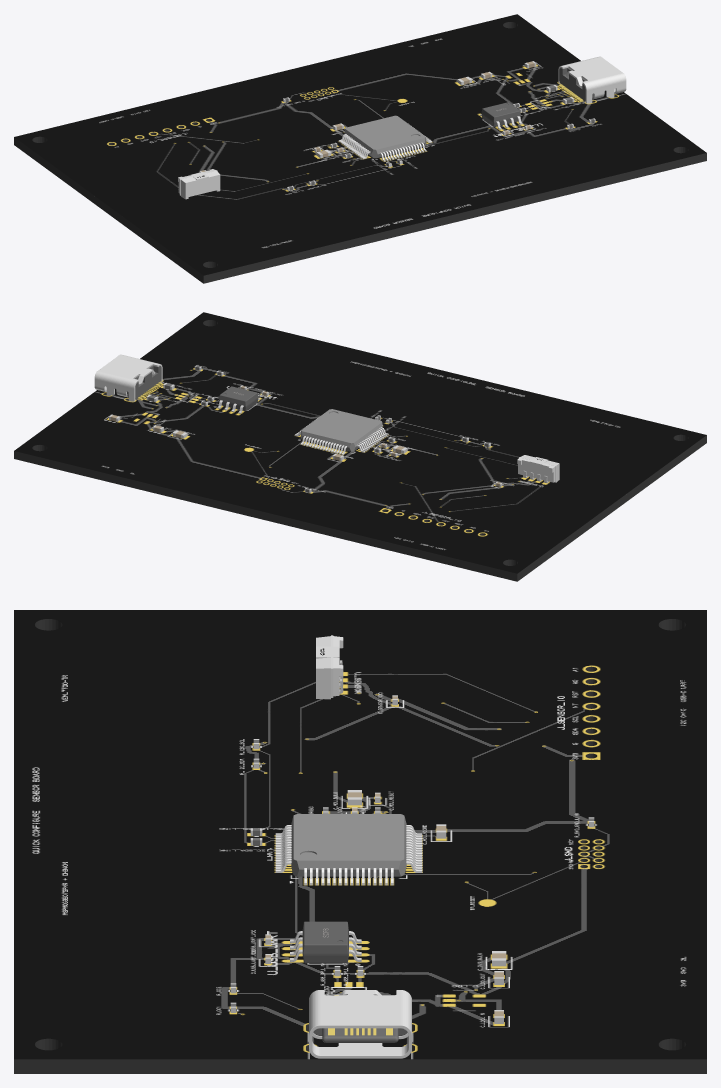
The picture shows the model from 3 angles, top to bottom: view 1: azimuth 30°, elevation 25°; view 2: azimuth 150°, elevation 25°; view 3: azimuth 270°, elevation 25°; orthographic projection. The views are drawn at different scales.
Visible parts, largest first — view 1: Box0, U_MAIN, J_USB, U_SENSOR, U_USB_UART; view 2: Box0, U_MAIN, J_USB, U_SENSOR, U_USB_UART; view 3: Box0, U_MAIN, J_USB, U_USB_UART, U_SENSOR.
Boxes of the visible parts, bbox=[...] form: Box0: bbox=[14, 14, 706, 283]; U_MAIN: bbox=[338, 115, 432, 161]; J_USB: bbox=[558, 56, 626, 103]; U_SENSOR: bbox=[178, 169, 220, 199]; U_USB_UART: bbox=[480, 102, 522, 129]; Box0: bbox=[14, 312, 706, 581]; U_MAIN: bbox=[294, 409, 388, 454]; J_USB: bbox=[94, 354, 162, 401]; U_SENSOR: bbox=[517, 455, 559, 483]; U_USB_UART: bbox=[217, 386, 259, 413]; Box0: bbox=[14, 610, 706, 1073]; U_MAIN: bbox=[275, 814, 422, 885]; J_USB: bbox=[309, 990, 411, 1058]; U_USB_UART: bbox=[290, 921, 361, 963]; U_SENSOR: bbox=[316, 635, 343, 699].
Bounding box in the file's own units: 92.04 × 4.65 × 60.
19 materials, 2 textured.
